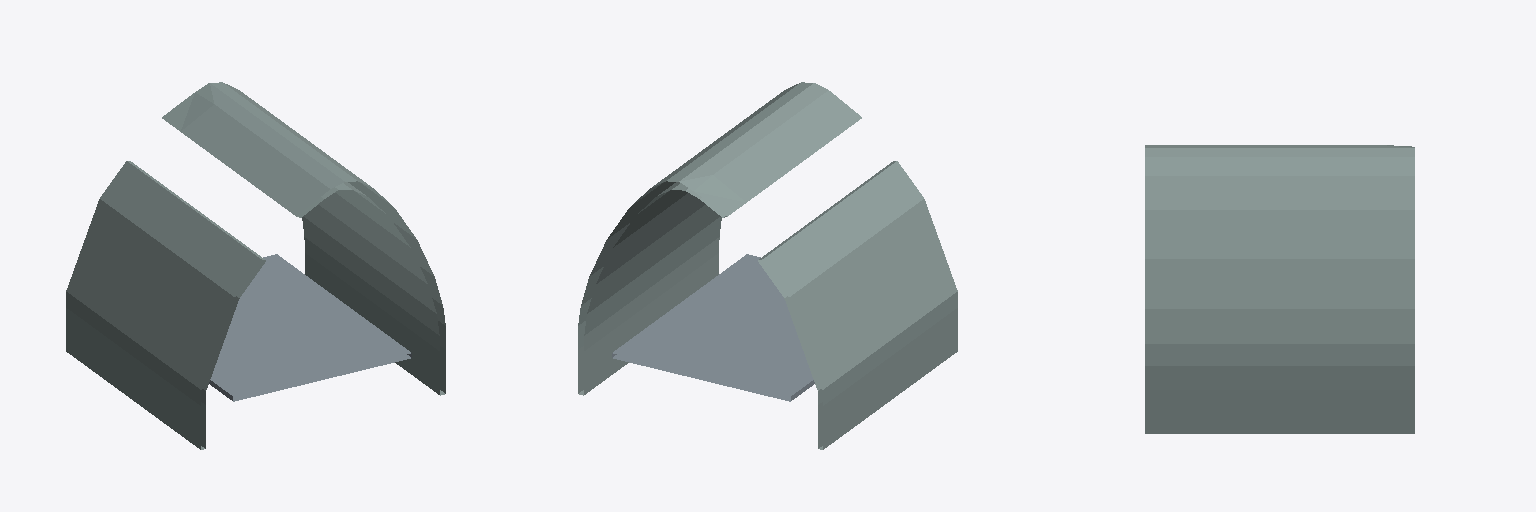
The model's file is corridor_Scene_Scene.obj.
3 renders of one model, left to right at view 1: azimuth 30°, elevation 25°; view 2: azimuth 150°, elevation 25°; view 3: azimuth 270°, elevation 25°, orthographic.
Parts seen in each view (by area): view 1: Vault_Mesh, Floor_Cube; view 2: Vault_Mesh, Floor_Cube; view 3: Vault_Mesh.
Part boxes in pixels (bbox=[...]): Vault_Mesh: bbox=[66, 82, 445, 449]; Floor_Cube: bbox=[209, 254, 411, 401]; Vault_Mesh: bbox=[578, 82, 957, 449]; Floor_Cube: bbox=[612, 254, 814, 401]; Vault_Mesh: bbox=[1145, 145, 1414, 433].
Size of the model in its own units: 17.5 by 16.17 by 16.73.